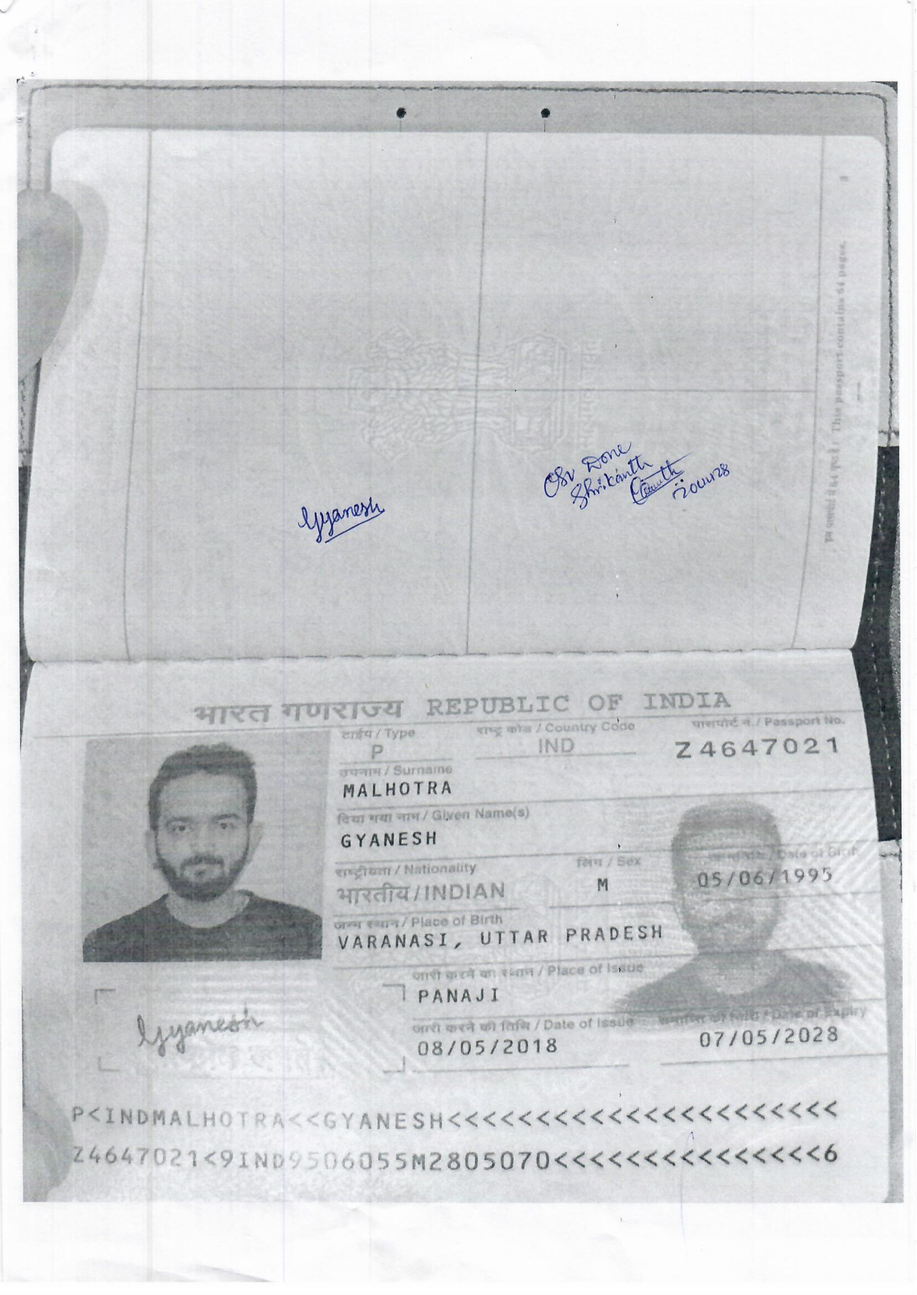DOB: (682, 859, 843, 895)
Surname: (339, 777, 461, 804)
country_code: (533, 730, 590, 760)
date_of_expiry: (684, 1018, 848, 1056)
date_of_issue: (416, 1034, 572, 1061)
details: (54, 1090, 852, 1182)
name: (322, 827, 547, 860)
nationality: (327, 874, 513, 912)
passport_no: (661, 729, 846, 768)
photo: (92, 747, 322, 953)
place_of_birth: (323, 926, 675, 954)
place_of_issue: (404, 979, 513, 1008)
sex: (578, 868, 632, 904)
sign: (123, 997, 283, 1061)
type: (353, 737, 403, 767)
